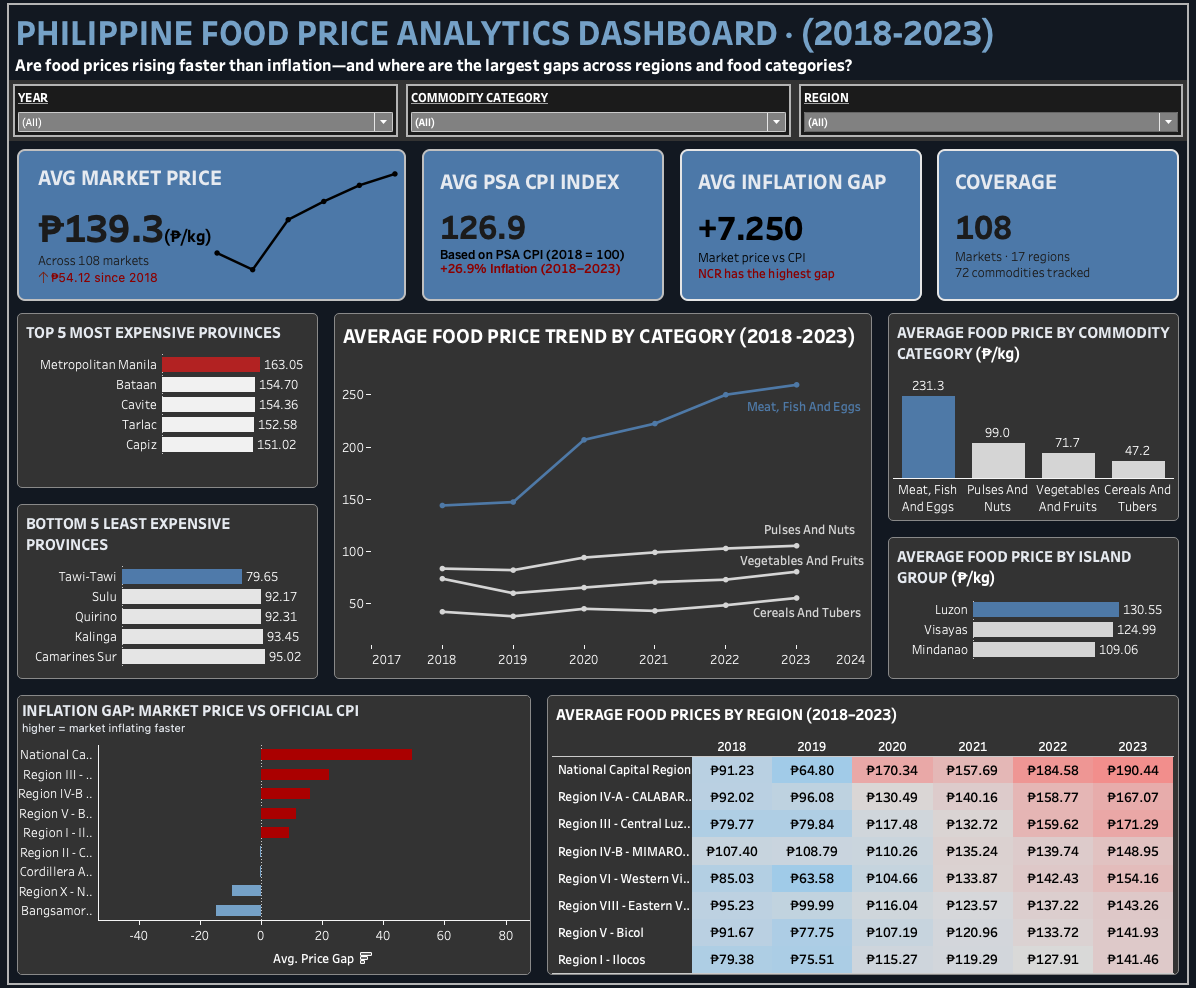

Layout of this report page (visuals, bound fields, positions):
{"tool":"tableau","page":{"name":"DASHBOARD","canvas":[1200,1000],"ordinal":0},"visuals":[{"type":"text","box":[11,11,1178,75]},{"type":"filter","title":"Top 10 Most Expensive Provinces","param":"[federated.0yjf4k405a2jku1324i4h126vvd9].[none:YEAR:ok]","box":[11,86,393,61]},{"type":"filter","title":"Average Food Price Trend by Category (2018-2023)","param":"[federated.0yjf4k405a2jku1324i4h126vvd9].[none:COMMODITY_CATEGORY:nk]","box":[404,86,393,61]},{"type":"filter","title":"Average Food Price Trend by Category (2018-2023)","param":"[federated.0yjf4k405a2jku1324i4h126vvd9].[none:REGION_NAME:nk]","box":[797,86,392,61]},{"type":"worksheet","title":"KPI - Avg Price","mark":"Automatic","box":[11,147,405,164]},{"type":"worksheet","title":"KPI - % Change","mark":"Automatic","box":[416,147,257.7,164]},{"type":"worksheet","title":"KPI - Gap","mark":"Automatic","box":[673.7,147,257.7,164]},{"type":"worksheet","title":"KPI Market","mark":"Automatic","box":[931.3,147,257.7,164]},{"type":"worksheet","title":"Sheet 13","mark":"Automatic","rows":["PRICE_PHP"],"cols":["YEAR"],"box":[183,168,249,215]},{"type":"worksheet","title":"Top 10 Most Expensive Provinces","mark":"Automatic","rows":["PROVINCE_NAME"],"cols":["PRICE_PHP"],"box":[11,311,317,191]},{"type":"worksheet","title":"Average Food Price Trend by Category (2018-2023)","mark":"Line","rows":["PRICE_PHP"],"cols":["YEAR"],"box":[328,311,554,382]},{"type":"worksheet","title":"Price/Comm","mark":"Automatic","rows":["PRICE_PHP"],"cols":["COMMODITY_CATEGORY"],"box":[882,311,307,224]},{"type":"worksheet","title":"Top 10 Most Expensive Provinces (2)","mark":"Automatic","rows":["PROVINCE_NAME"],"cols":["PRICE_PHP"],"box":[11,502,317,191]},{"type":"worksheet","title":"Average Price by Island Group","mark":"Automatic","rows":["ISLAND_GROUP"],"cols":["PRICE_PHP"],"box":[882,535,307,158]},{"type":"worksheet","title":"CPI vs Actual Price Gap ","mark":"Bar","rows":["REGION_NAME"],"cols":["Calculation_4682059212992512"],"box":[11,693,530,296]},{"type":"worksheet","title":"Heatmap","mark":"Square","rows":["REGION_NAME"],"cols":["YEAR"],"box":[541,693,648,296]}]}

Visuals, with their boxes in screenshot pixels (x1, y1, x2, y2), scaled from the page's 1200x1000 canvas onto the 1196x988 screenshot:
text: l=11, t=11, r=1185, b=85
"Top 10 Most Expensive Provinces" filter: l=11, t=85, r=403, b=145
"Average Food Price Trend by Category (2018-2023)" filter: l=403, t=85, r=794, b=145
"Average Food Price Trend by Category (2018-2023)" filter: l=794, t=85, r=1185, b=145
"KPI - Avg Price" worksheet: l=11, t=145, r=415, b=307
"KPI - % Change" worksheet: l=415, t=145, r=671, b=307
"KPI - Gap" worksheet: l=671, t=145, r=928, b=307
"KPI Market" worksheet: l=928, t=145, r=1185, b=307
"Sheet 13" worksheet: l=182, t=166, r=431, b=378
"Top 10 Most Expensive Provinces" worksheet: l=11, t=307, r=327, b=496
"Average Food Price Trend by Category (2018-2023)" worksheet (Line marks): l=327, t=307, r=879, b=685
"Price/Comm" worksheet: l=879, t=307, r=1185, b=529
"Top 10 Most Expensive Provinces (2)" worksheet: l=11, t=496, r=327, b=685
"Average Price by Island Group" worksheet: l=879, t=529, r=1185, b=685
"CPI vs Actual Price Gap " worksheet (Bar marks): l=11, t=685, r=539, b=977
"Heatmap" worksheet (Square marks): l=539, t=685, r=1185, b=977
